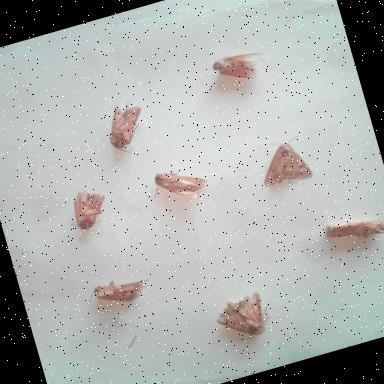abw: (201, 278, 290, 356), (86, 92, 166, 168), (248, 124, 324, 198), (76, 266, 163, 326), (135, 155, 219, 217), (57, 177, 124, 243), (201, 39, 278, 96), (313, 200, 384, 256)
